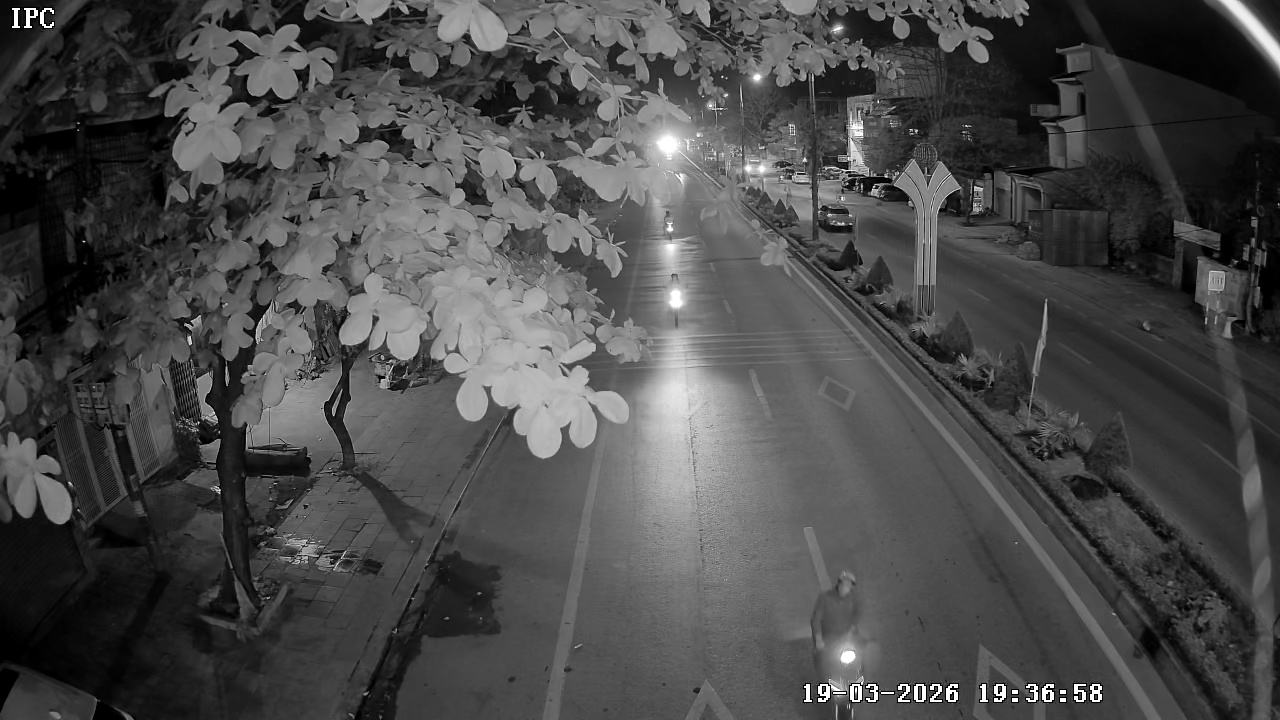motorbike: (799, 567, 883, 719), (661, 266, 690, 331), (661, 206, 683, 243)
